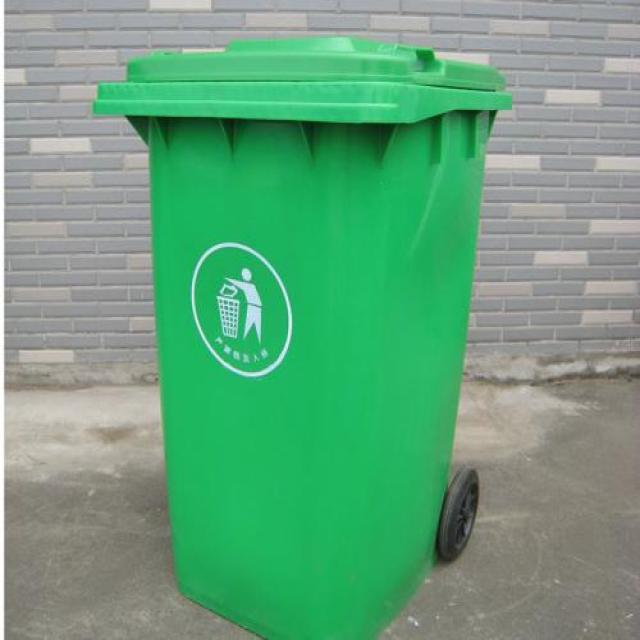garbage_bin: (92, 34, 511, 638)
